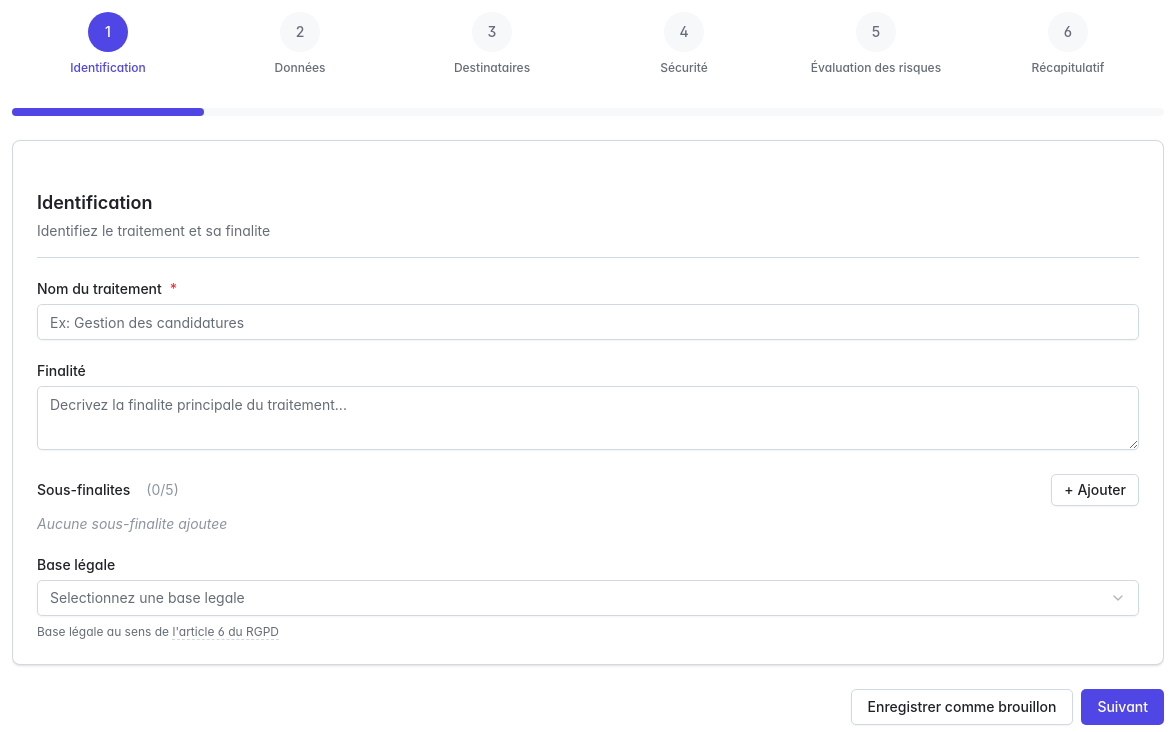
TreatmentWizard › advances to step 2 (Data) after filling the name and clicking Next
Type "Gestion RH" into the field labelled "Nom du traitement *". click: (588, 322)
box: [37, 304, 1139, 340]
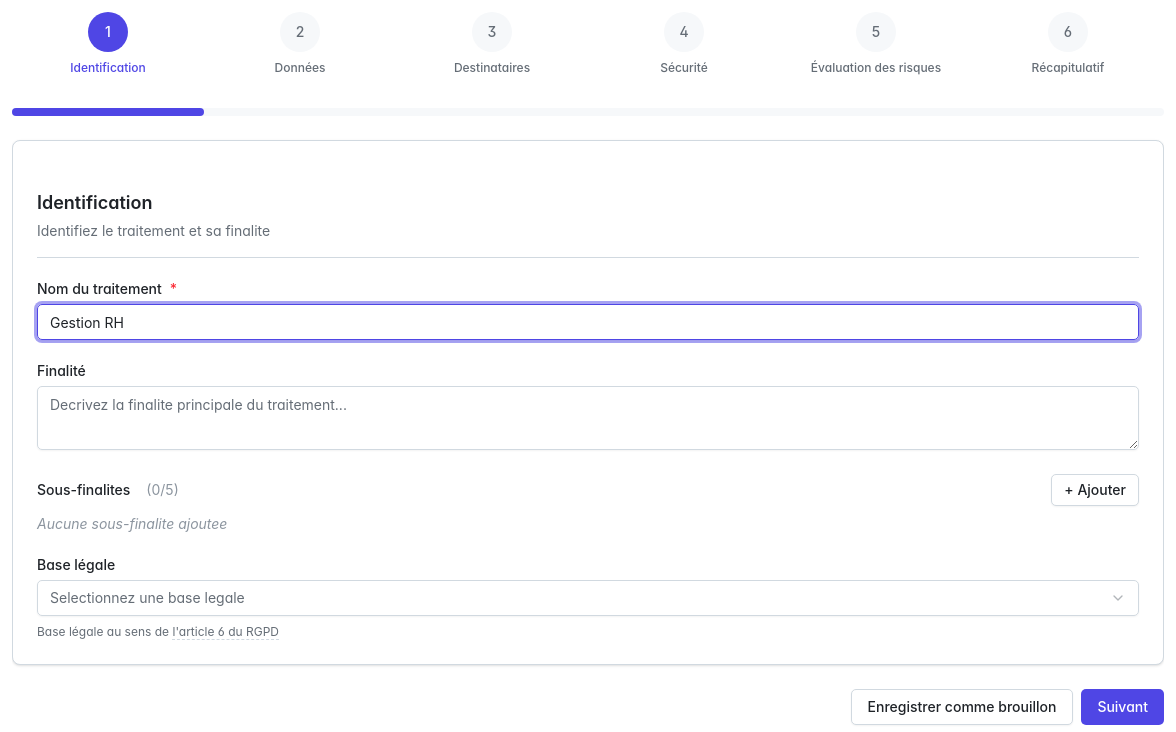
Click the button "Suivant". click: click(1123, 707)
box: [1081, 689, 1164, 725]
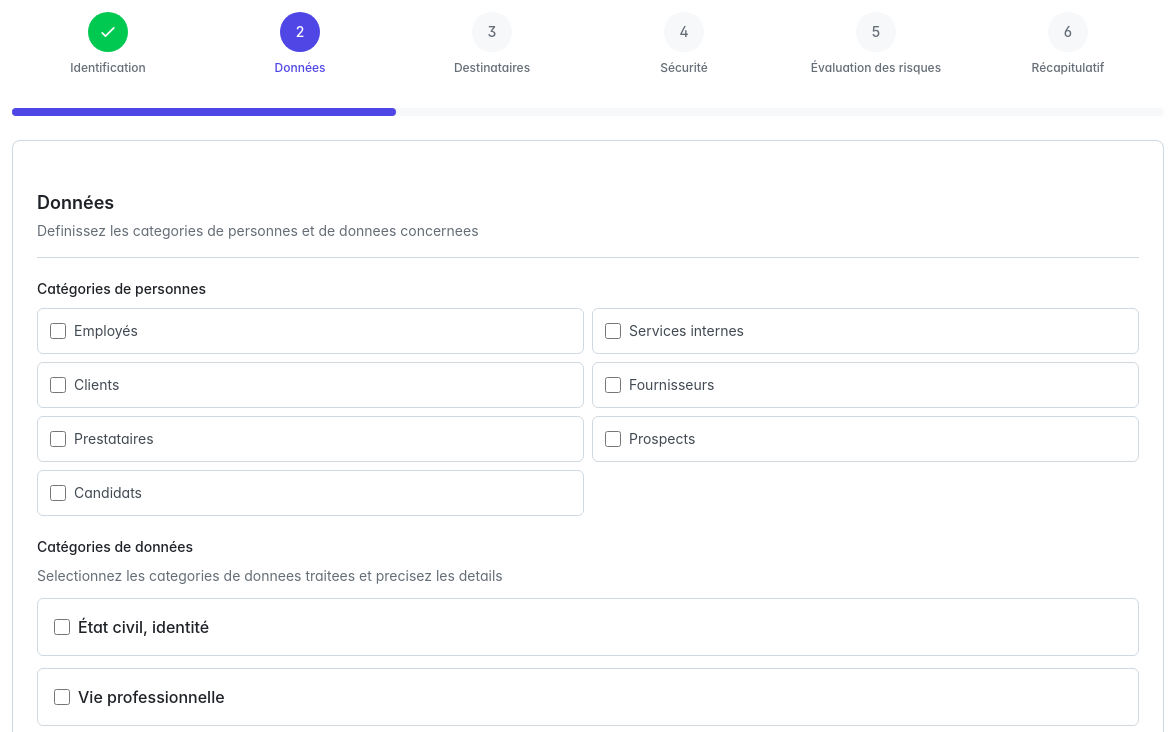
expect the heading "Données" is shown: met, box [37, 192, 114, 213]
